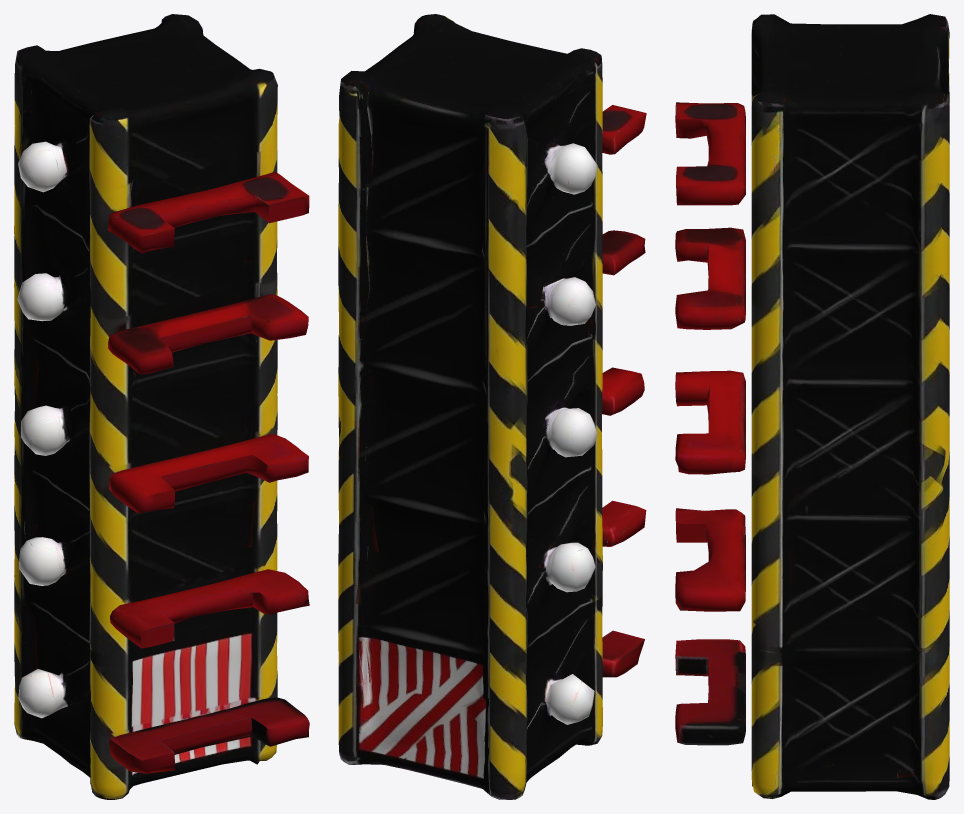
The model's file is LaunchStand.min.glb.
The picture shows the model from 3 angles, left to right: view 1: azimuth 30°, elevation 25°; view 2: azimuth 150°, elevation 25°; view 3: azimuth 270°, elevation 25°; orthographic projection. The views are drawn at different scales.
Visible parts, largest first — view 1: Mesh_0; view 2: Mesh_0; view 3: Mesh_0.
Part boxes in pixels (x1=…): Mesh_0: x1=14, y1=14, x2=309, y2=799; Mesh_0: x1=338, y1=14, x2=646, y2=799; Mesh_0: x1=675, y1=14, x2=949, y2=799.
Bounding box in the file's own units: 0.6223 × 1.9 × 0.6733.
Materials: 1 (1 with a texture image).
